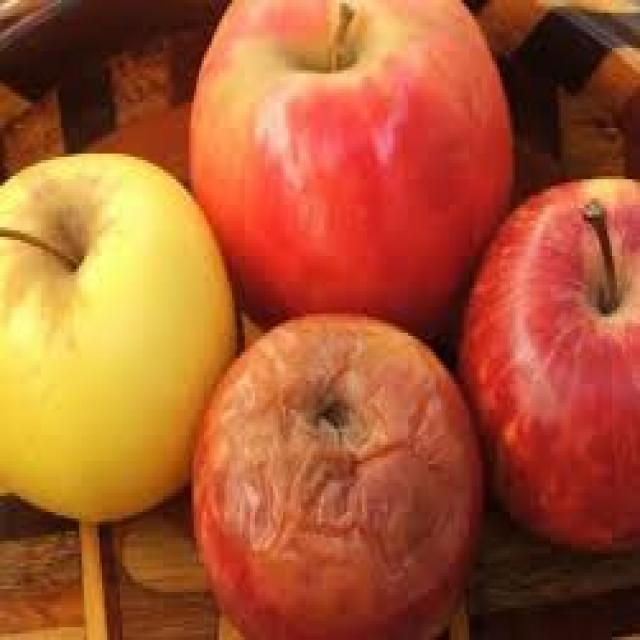organic waste: (186, 0, 510, 336), (183, 314, 480, 636), (0, 150, 235, 522), (457, 172, 638, 554)
